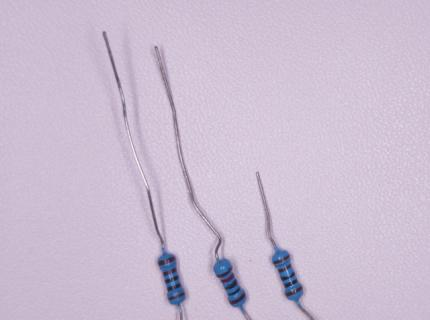Black band: (280, 270, 296, 281), (284, 278, 299, 288), (167, 283, 182, 292), (165, 275, 180, 283)
Brown band: (272, 253, 291, 265), (285, 285, 303, 297), (158, 256, 176, 266), (168, 292, 186, 300), (278, 264, 292, 273), (163, 268, 177, 276)
